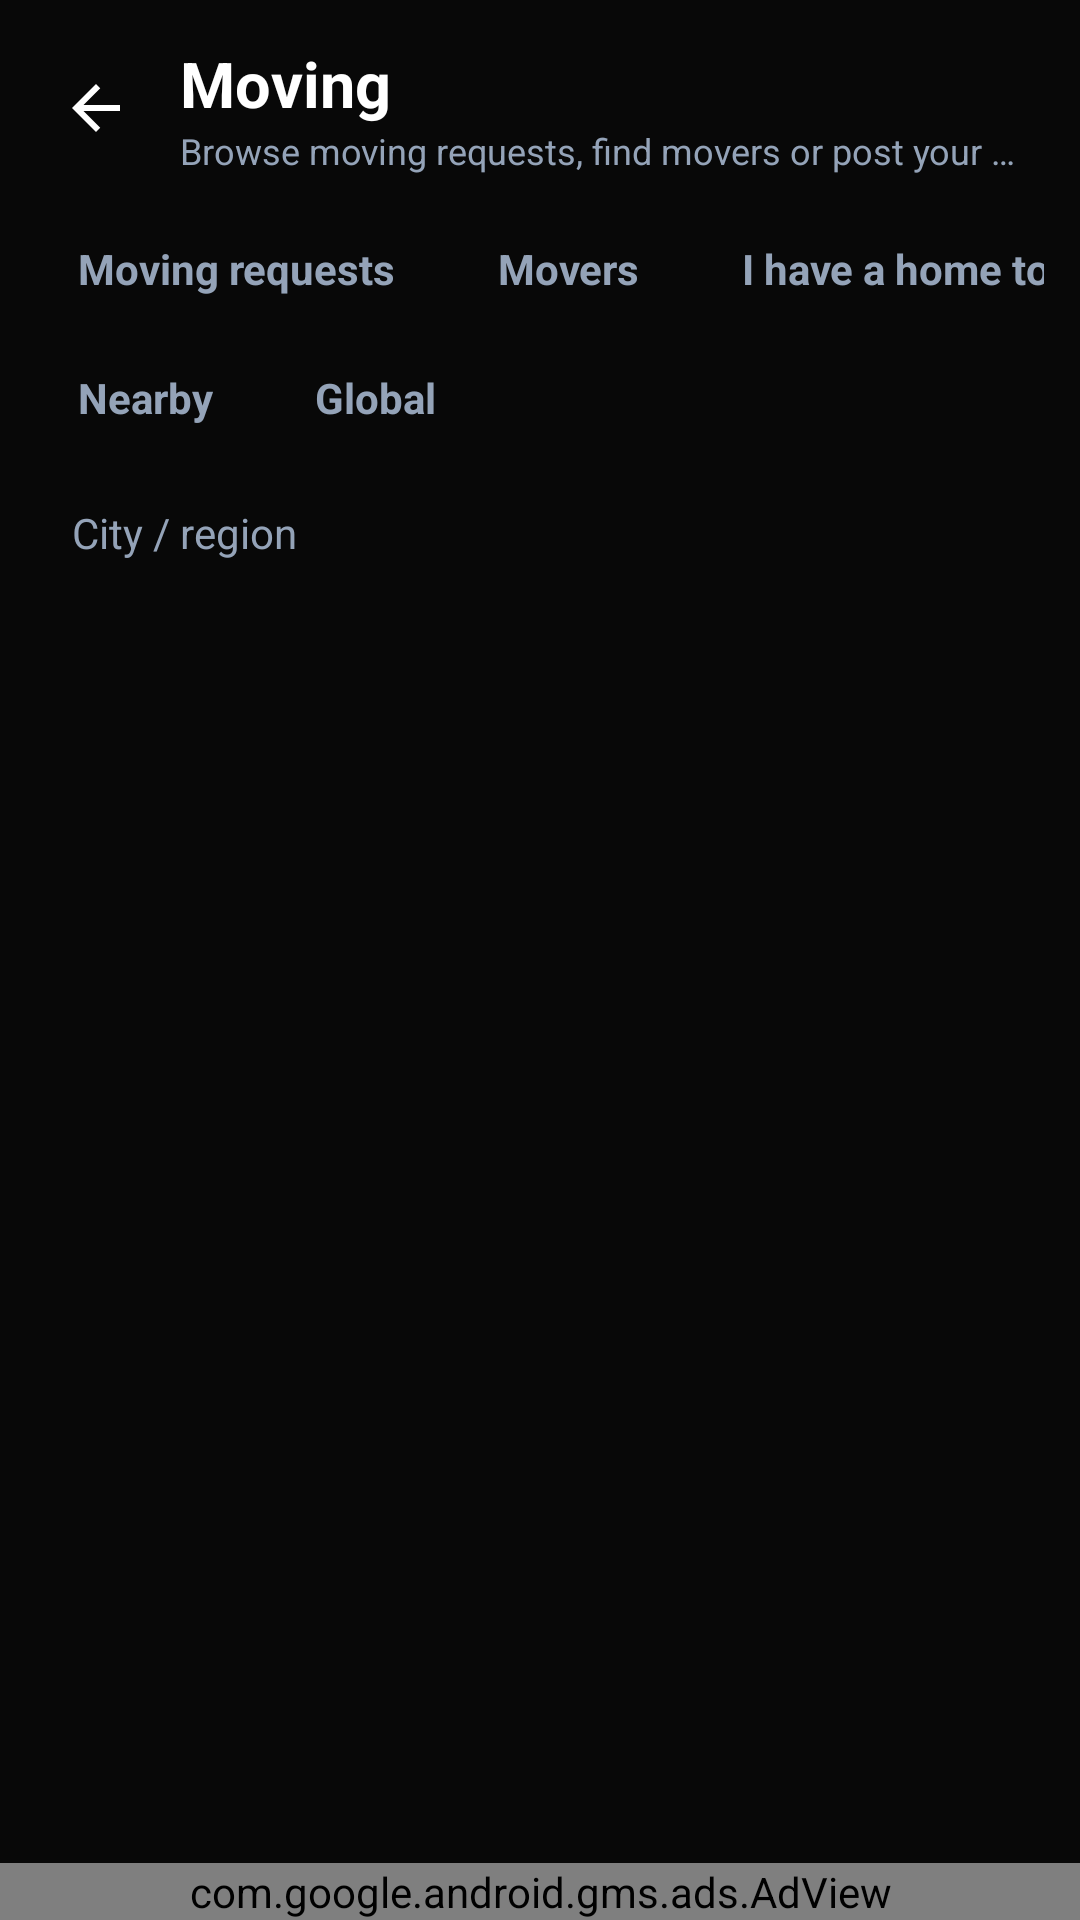

Icons on this 1080x1920 Android screen, each with the point to tap as (x,y):
Back: (96,108)
